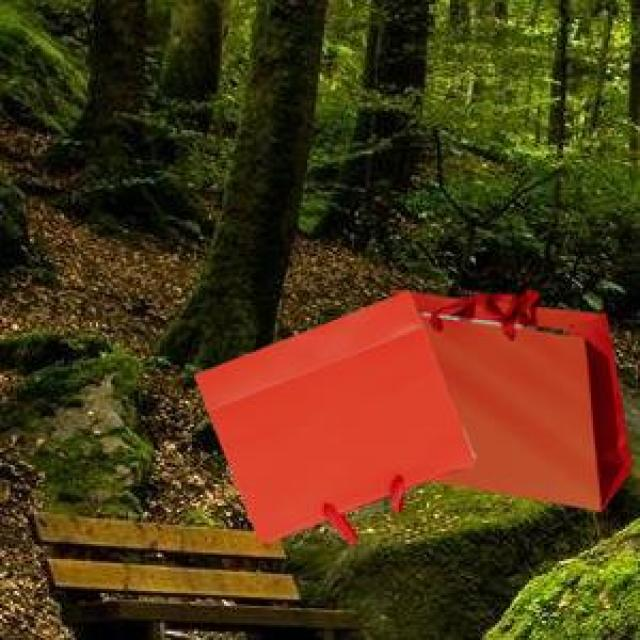Paper -Biodegradable-: (193, 286, 638, 548)
